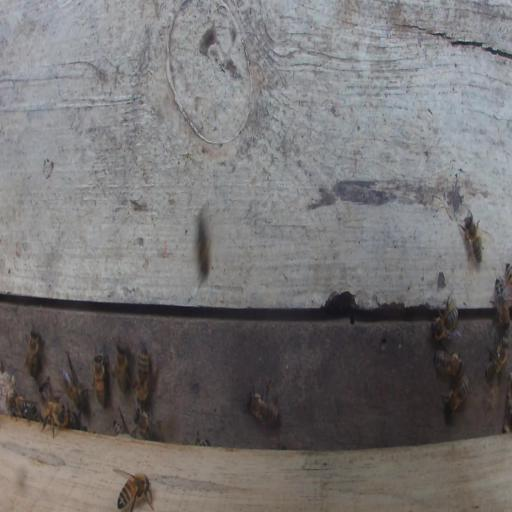nonpollenbee: (117, 472, 154, 512), (195, 211, 212, 280), (248, 392, 279, 429), (62, 369, 87, 411), (463, 215, 483, 265), (486, 338, 510, 376), (445, 375, 469, 412), (433, 307, 459, 341), (134, 406, 159, 441), (433, 349, 463, 378), (494, 279, 509, 334), (136, 348, 150, 405), (92, 354, 106, 406), (115, 340, 128, 395), (39, 401, 61, 433), (9, 396, 35, 419), (26, 329, 39, 375), (38, 382, 59, 404), (113, 420, 128, 435), (506, 263, 512, 297)
